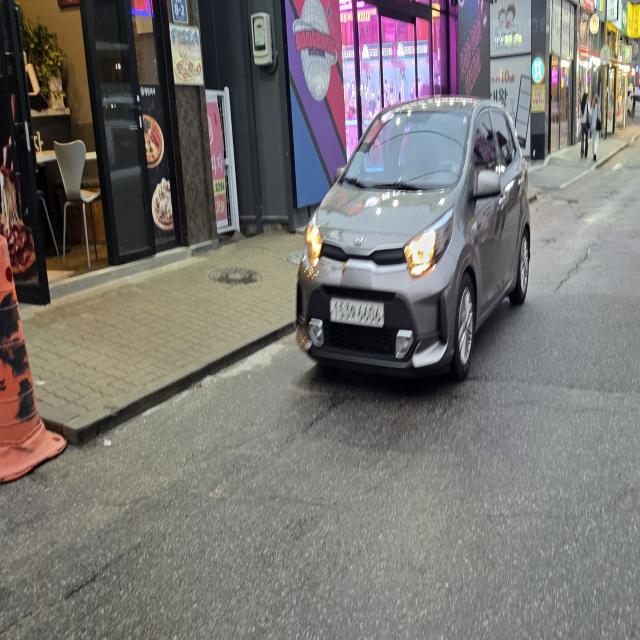car: (295, 69, 545, 451)
